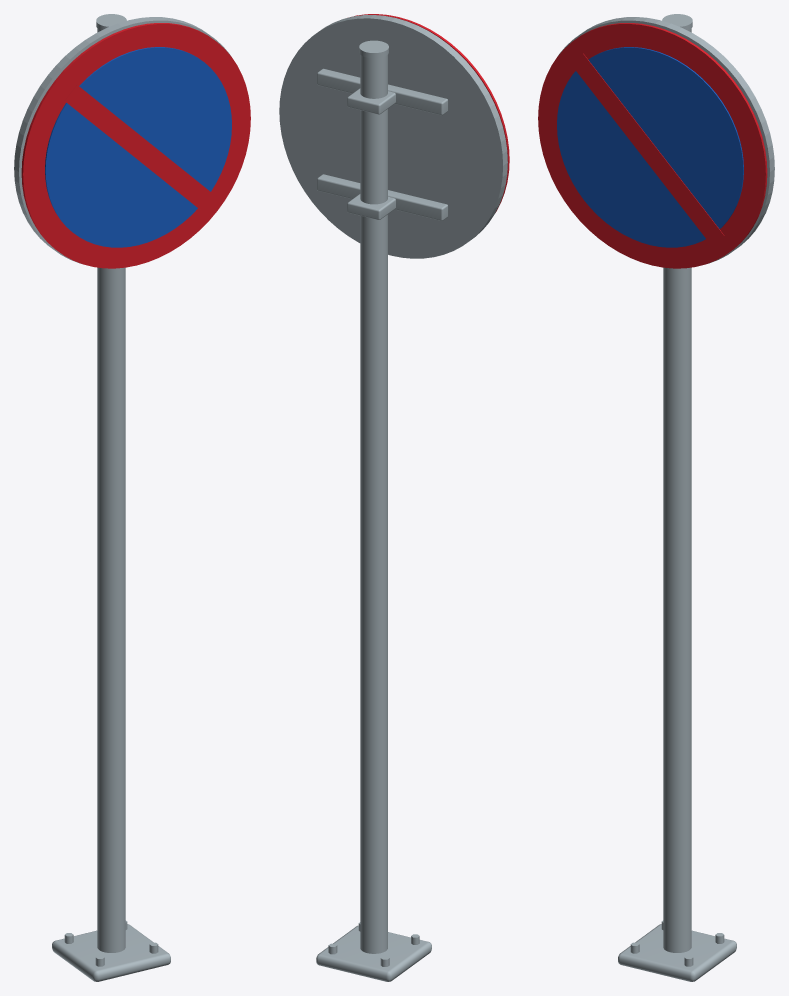
File: DS_Sign_NoParking.fbx
3 views of the same model, side by side, from view 1: azimuth 30°, elevation 25°; view 2: azimuth 150°, elevation 25°; view 3: azimuth 330°, elevation 25° (orthographic). The views are drawn at different scales.
Visible parts, largest first — view 1: Face_Field.013, Post.016, Face_Border.013, ProhibitionSlash0.001, BasePlate.016, Plate_Back.013; view 2: Plate_Back.013, Post.016, BasePlate.016, RearRail.027, RearRail.026, PostClamp.027, PostClamp.026, Face_Border.013; view 3: Face_Field.013, Post.016, Face_Border.013, ProhibitionSlash0.001, BasePlate.016, Plate_Back.013.
Part boxes in pixels (box(x1,y1,x2,y2)): Face_Field.013: box(45, 47, 231, 247); Post.016: box(97, 28, 125, 952); Face_Border.013: box(21, 23, 250, 268); ProhibitionSlash0.001: box(64, 85, 218, 213); BasePlate.016: box(52, 924, 170, 981); Plate_Back.013: box(14, 17, 230, 263); Plate_Back.013: box(279, 15, 507, 258); Post.016: box(360, 55, 387, 953); BasePlate.016: box(316, 925, 431, 981); RearRail.027: box(317, 68, 448, 115); RearRail.026: box(317, 174, 448, 220); PostClamp.027: box(347, 88, 395, 114); PostClamp.026: box(347, 194, 395, 219); Face_Border.013: box(354, 14, 509, 212); Face_Field.013: box(557, 47, 743, 247); Post.016: box(663, 28, 691, 952); Face_Border.013: box(538, 23, 767, 268); ProhibitionSlash0.001: box(570, 53, 724, 245); BasePlate.016: box(618, 924, 736, 981); Plate_Back.013: box(558, 17, 774, 263).
Bounding box in the file's own units: 71 × 281 × 28.1.
